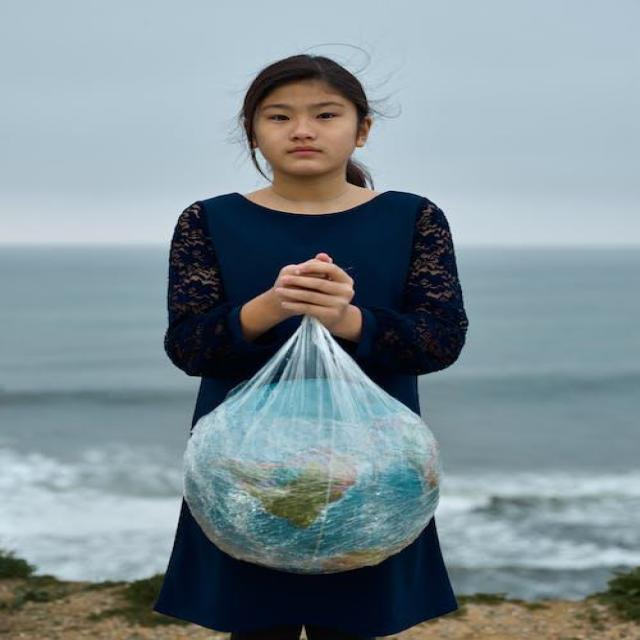trash: (162, 276, 456, 578)
